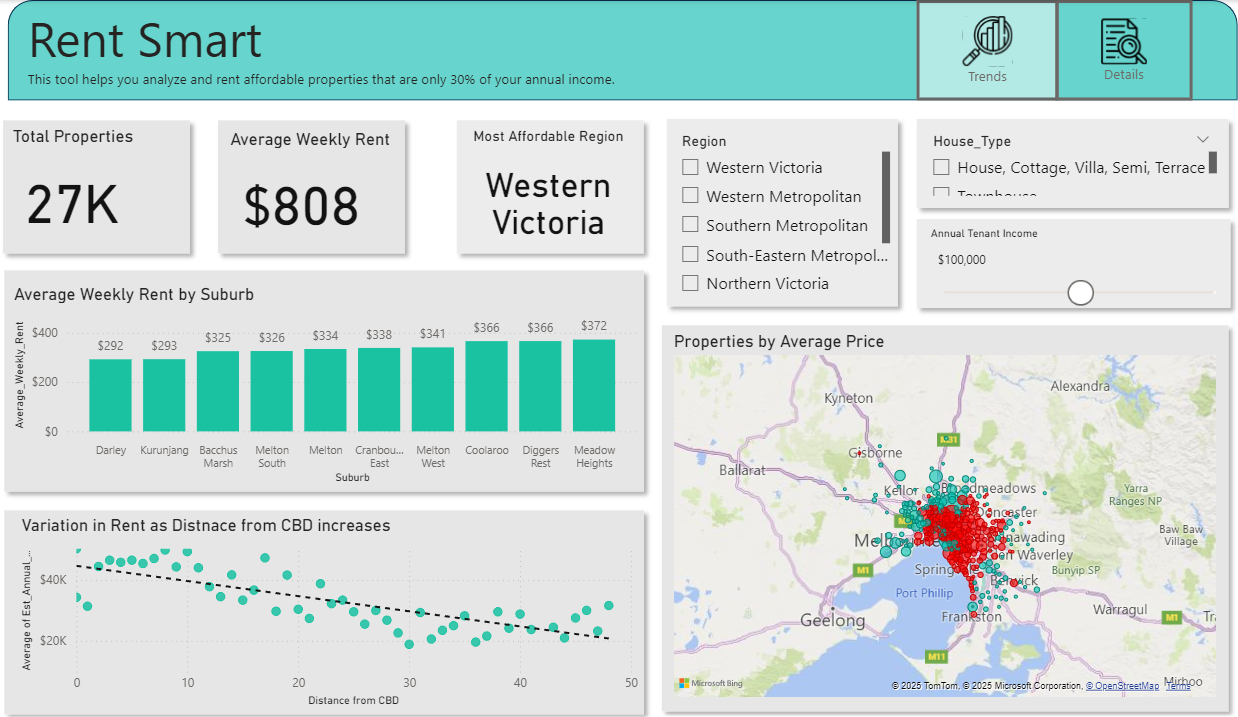

This screenshot's page, from the dashboard's own definition file:
{"tool":"powerbi","page":{"name":"Page 2","canvas":[1280,720],"ordinal":1},"visuals":[{"type":"shape","box":[34.9,0,1222.4,99.5],"z":0},{"type":"shape","box":[681,110,248,204.3],"z":1000},{"type":"shape","box":[929,110,328.3,106.5],"z":2000},{"type":"shape","box":[929,209.5,330,106.5],"z":3000},{"type":"shape","box":[20.1,110.3,203.9,150.4],"z":4000},{"type":"shape","box":[675.9,314.9,581.8,402.1],"z":5000},{"type":"shape","box":[21,260.2,654.8,455.8],"z":6000},{"type":"shape","box":[233.9,110.3,203.9,150.4],"z":7000},{"type":"cardVisual","title":"Total Properties","fields":{"Data":["Cleaned_Melbourne_Data.Total_Properties_Scanned"]},"box":[30.1,127,203.9,117],"z":8000},{"type":"cardVisual","title":"Average Weekly Rent","fields":{"Data":["Cleaned_Melbourne_Data.Average_Weekly_Rent"]},"box":[244.7,127.1,202.8,110.9],"z":9000},{"type":"map","title":"Properties by Average Price","fields":{"Size":["Sum(Cleaned_Melbourne_Data.Propertycount)"],"Category":["Cleaned_Melbourne_Data.SubCityCountry"]},"box":[691.3,330.3,549.3,369.6],"z":10000},{"type":"slicer","fields":{"Values":["Cleaned_Melbourne_Data.Regionname"]},"box":[691.5,127.5,225.3,174.6],"z":11000},{"type":"shape","box":[471.2,110.3,203.9,150.4],"z":12000},{"type":"cardVisual","fields":{"Data":["Cleaned_Melbourne_Data.Dynamic Cheapest Location Display"]},"box":[476.4,126.8,190.2,149.1],"z":13000},{"type":"slicer","fields":{"Values":["Cleaned_Melbourne_Data.House_Type"]},"box":[941.2,127.5,300.4,73.3],"z":14000},{"type":"slicer","fields":{"Values":["Tenant Income.Tenant Income"]},"box":[939.5,220,317.8,89.1],"z":15000},{"type":"shape","box":[34.2,68.4,1223.5,63.3],"z":16000},{"type":"tableEx","fields":{"Values":["Cleaned_Melbourne_Data.Address","Cleaned_Melbourne_Data.Suburb","Cleaned_Melbourne_Data.Average_Weekly_Rent","Cleaned_Melbourne_Data.Is_Affordable","Avg(Cleaned_Melbourne_Data.Distance)","Cleaned_Melbourne_Data.House_Type","Cleaned_Melbourne_Data.Rooms","Cleaned_Melbourne_Data.Bathroom","Cleaned_Melbourne_Data.Bedroom2","Cleaned_Melbourne_Data.Car","Cleaned_Melbourne_Data.CouncilArea"]},"box":[48.9,275.9,597.2,424.3],"z":17000},{"type":"textbox","box":[48.9,0,681,99.5],"z":18000},{"type":"actionButton","box":[1076.1,0,136.7,100],"z":19000},{"type":"actionButton","box":[938.3,0,141.7,100],"z":20000}]}

Visuals, with their boxes in screenshot pixels (x1, y1, x2, y2), scaled from the page's 1280x720 canvas onto the 1238x717 screenshot:
shape: bbox(34, 0, 1216, 99)
shape: bbox(659, 110, 899, 313)
shape: bbox(899, 110, 1216, 216)
shape: bbox(899, 209, 1218, 315)
shape: bbox(19, 110, 217, 260)
shape: bbox(654, 314, 1216, 714)
shape: bbox(20, 259, 654, 713)
shape: bbox(226, 110, 423, 260)
"Total Properties" cardVisual: bbox(29, 126, 226, 243)
"Average Weekly Rent" cardVisual: bbox(237, 127, 433, 237)
"Properties by Average Price" map: bbox(669, 329, 1200, 697)
slicer - Cleaned_Melbourne_Data.Regionname: bbox(669, 127, 887, 301)
shape: bbox(456, 110, 653, 260)
cardVisual - Cleaned_Melbourne_Data.Dynamic Cheapest Location Display: bbox(461, 126, 645, 275)
slicer - Cleaned_Melbourne_Data.House_Type: bbox(910, 127, 1201, 200)
slicer - Tenant Income.Tenant Income: bbox(909, 219, 1216, 308)
shape: bbox(33, 68, 1216, 131)
tableEx - Cleaned_Melbourne_Data.Address x Cleaned_Melbourne_Data.Suburb: bbox(47, 275, 625, 697)
textbox: bbox(47, 0, 706, 99)
actionButton: bbox(1041, 0, 1173, 100)
actionButton: bbox(908, 0, 1045, 100)
